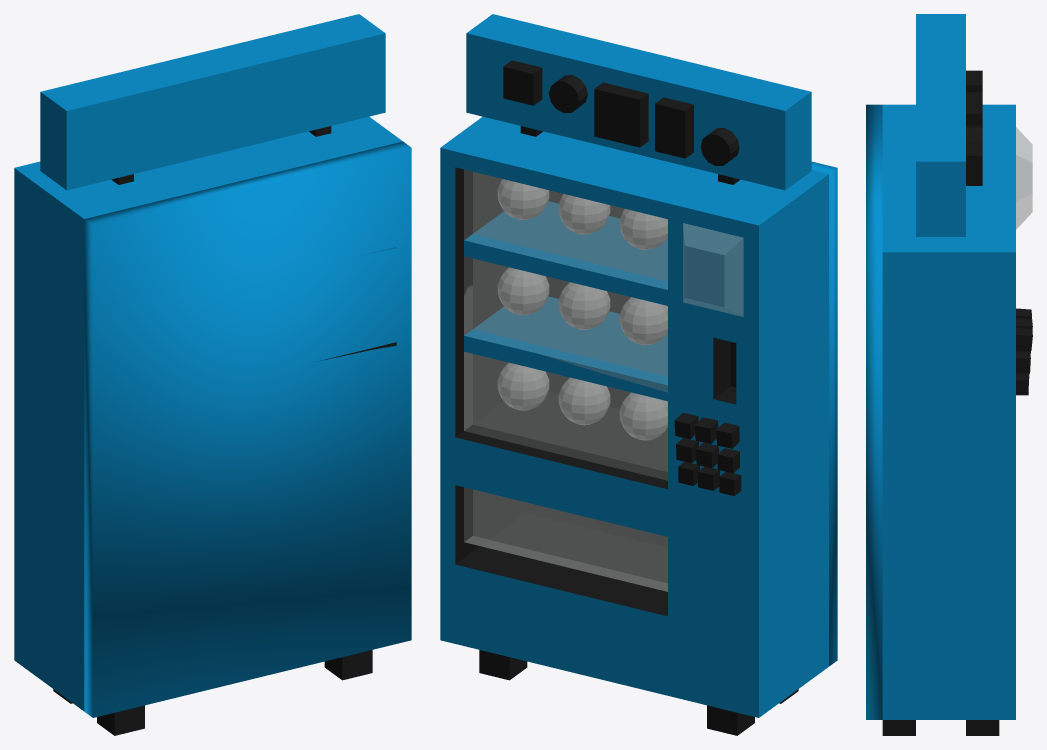
File: Vending machine.fbx
3 renders of one model, left to right at view 1: azimuth 30°, elevation 25°; view 2: azimuth 150°, elevation 25°; view 3: azimuth 270°, elevation 25°, orthographic. The views are drawn at different scales.
Parts seen in each view (by area): view 1: model4:mesh1858506000, model4:mesh1887676826, model4:mesh577397298, model4:mesh1222169380, model4:mesh1871551305, model4:mesh1982615210; view 2: model4:mesh1887676826, model4:mesh1016280600, model4:mesh1653716828, model4:mesh577397298, model4:mesh19616759, model4:mesh522768280, model4:mesh1222169380, model4:mesh892156184, model4:mesh1394142260, model4:mesh351965626, model4:mesh1858506000, model4:mesh134552523 (+16 smaller); view 3: model4:mesh19616759, model4:mesh577397298, model4:mesh1858506000, model4:mesh1222169380, model4:mesh1887676826, model4:mesh134552523, model4:mesh962782918, model4:mesh850966255, model4:mesh1471477505, model4:mesh1871551305, model4:mesh1266518904, model4:mesh185908305 (+2 smaller).
Boxes of the visible parts, box(x1,y1,x2,y2) form: model4:mesh1858506000: box(84, 141, 411, 717); model4:mesh1887676826: box(14, 161, 174, 711); model4:mesh577397298: box(40, 14, 385, 190); model4:mesh1222169380: box(142, 120, 387, 196); model4:mesh1871551305: box(324, 650, 372, 680); model4:mesh1982615210: box(97, 705, 144, 735); model4:mesh1887676826: box(668, 170, 828, 717); model4:mesh1016280600: box(464, 170, 667, 480); model4:mesh1653716828: box(455, 513, 667, 695); model4:mesh577397298: box(466, 14, 811, 190); model4:mesh19616759: box(440, 116, 524, 643); model4:mesh522768280: box(455, 392, 667, 536); model4:mesh1222169380: box(455, 120, 709, 218); model4:mesh892156184: box(464, 487, 667, 591); model4:mesh1394142260: box(464, 201, 667, 305); model4:mesh351965626: box(464, 296, 667, 401); model4:mesh1858506000: box(525, 161, 837, 666); model4:mesh134552523: box(683, 223, 743, 316); model4:mesh19616759: box(882, 245, 1015, 719); model4:mesh577397298: box(916, 14, 965, 236); model4:mesh1858506000: box(866, 104, 882, 719); model4:mesh1222169380: box(882, 146, 1015, 245); model4:mesh1887676826: box(882, 104, 1015, 146); model4:mesh134552523: box(1016, 127, 1032, 229); model4:mesh962782918: box(966, 141, 982, 185); model4:mesh850966255: box(966, 92, 982, 125); model4:mesh1471477505: box(966, 720, 999, 735); model4:mesh1871551305: box(882, 720, 915, 735); model4:mesh1266518904: box(1016, 327, 1032, 350); model4:mesh185908305: box(966, 71, 982, 92).
Size of the model in its own units: 0.21 by 0.39 by 0.1003.
